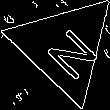N_NW: (31, 15, 97, 79)
